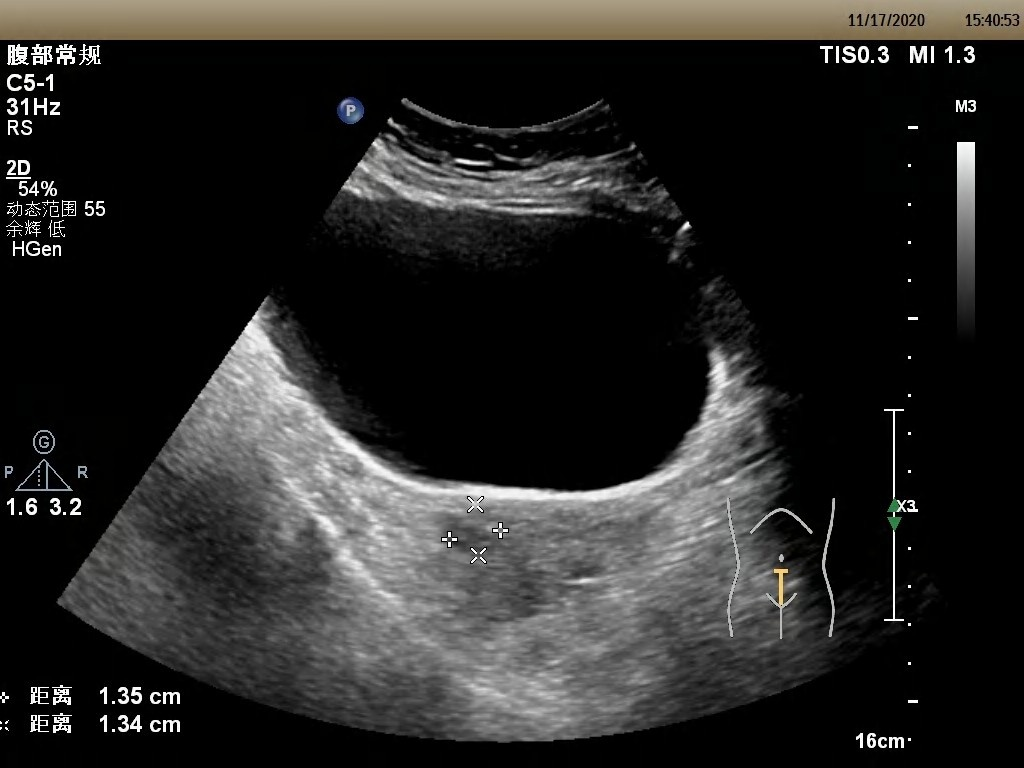肌瘤: (454, 515, 494, 553)
